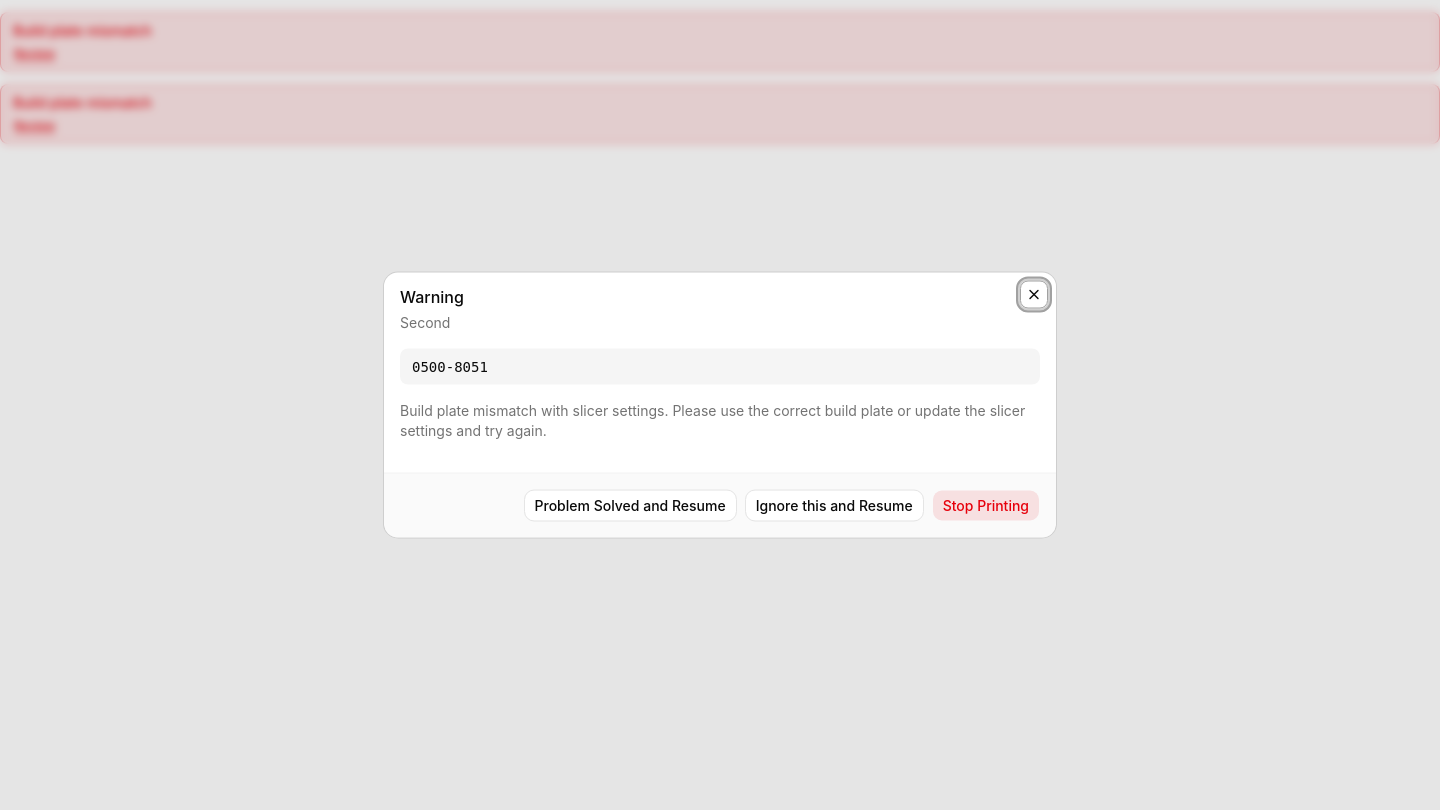
Test: PrinterMismatchCoordinator › selects simultaneous mismatches in stable printer-list order
This screenshot has width=1440, height=810.
Check: the dialog shows "Second", box x1=400 y1=314 x2=450 y2=330
Click the button named "Close mismatch dialog" at (1034, 294), box x1=1020 y1=280 x2=1048 y2=308
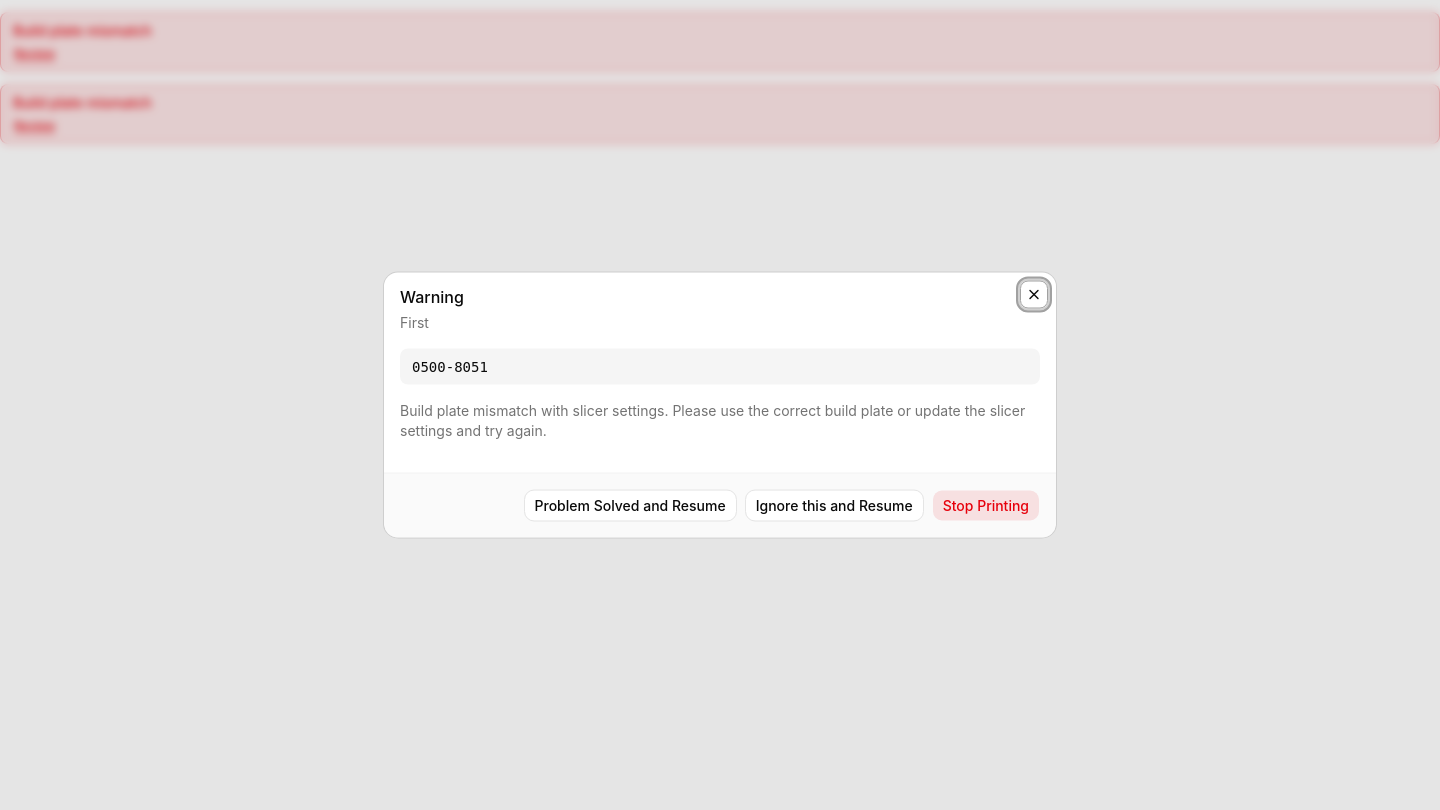
Check: the dialog shows "First", box x1=400 y1=314 x2=429 y2=330
